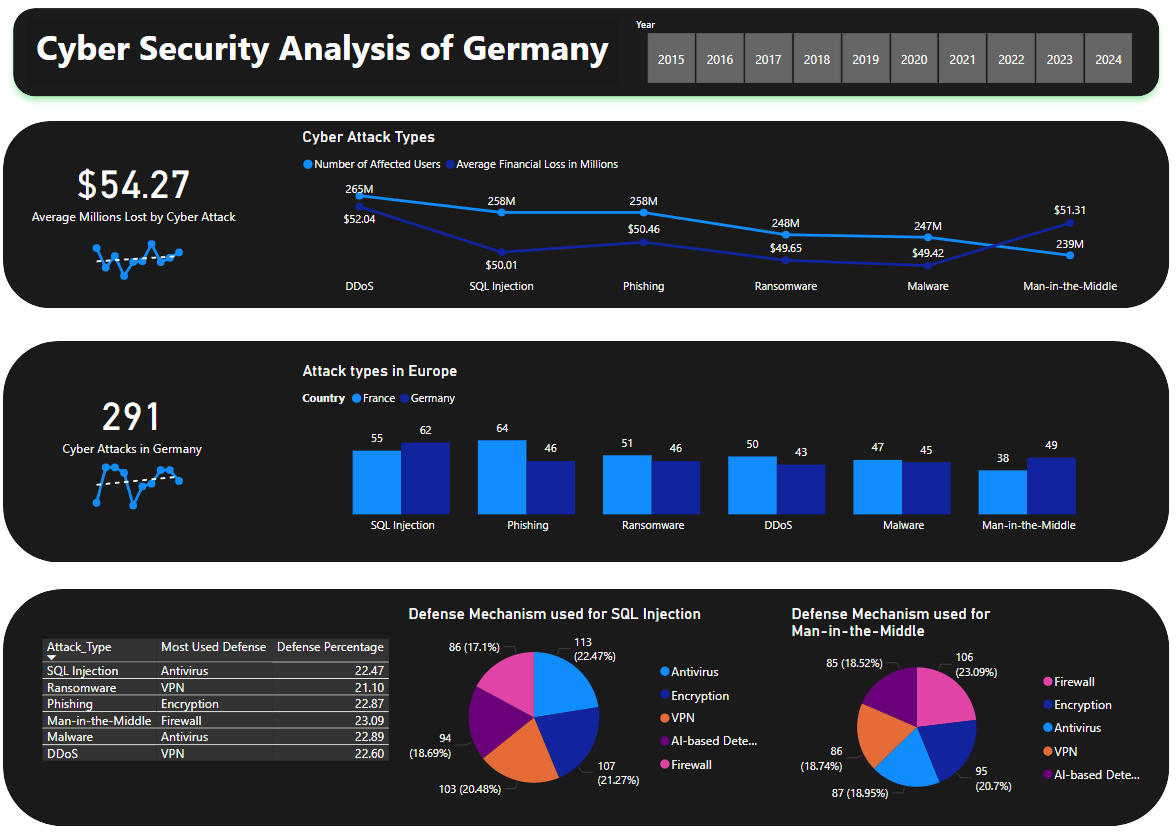

This screenshot's page, from the dashboard's own definition file:
{"tool":"powerbi","page":{"name":"Page 1","canvas":[1280,920],"ordinal":0},"visuals":[{"type":"shape","box":[4.6,0,1269.9,118.2],"z":1000},{"type":"shape","box":[4.6,373.1,1269.9,241],"z":1500},{"type":"shape","box":[4.6,643.1,1269.9,258.4],"z":2000},{"type":"shape","box":[4.6,134.4,1269.9,203.9],"z":3000},{"type":"textbox","box":[29,23.2,645.4,71.8],"z":4000},{"type":"card","fields":{"Values":["CountNonNull(Global_Cybersecurity_Threats_2015-2024.Attack_Type)"]},"box":[61.4,405.5,168,108.9],"z":5000},{"type":"lineChart","title":"Cyber Attack Types","fields":{"Category":["Global_Cybersecurity_Threats_2015-2024.Attack_Type"],"Y2":["Avg(Global_Cybersecurity_Threats_2015-2024.Financial_Loss_in_Million)"],"Y":["Sum(Global_Cybersecurity_Threats_2015-2024.Number_of_Affected_Users)"]},"box":[325.6,140.2,909.6,191.2],"z":6000},{"type":"card","fields":{"Values":["Avg(Global_Cybersecurity_Threats_2015-2024.Financial_Loss_in_Million)"]},"box":[29,152.9,234.1,108.9],"z":6001},{"type":"slicer","fields":{"Values":["Global_Cybersecurity_Threats_2015-2024.Year"]},"box":[680.2,17.4,577,82.3],"z":6002},{"type":"lineChart","fields":{"Y":["Avg(Global_Cybersecurity_Threats_2015-2024.Financial_Loss_in_Million)"],"Category":["Global_Cybersecurity_Threats_2015-2024.Year"]},"box":[41.7,248,179.6,69.5],"z":6003},{"type":"lineChart","fields":{"Category":["Global_Cybersecurity_Threats_2015-2024.Year"],"Y":["CountNonNull(Global_Cybersecurity_Threats_2015-2024.Attack_Type)"]},"box":[41.7,493.6,179.6,69.5],"z":6004},{"type":"clusteredColumnChart","title":"Attack types in Europe","fields":{"Category":["Global_Cybersecurity_Threats_2015-2024.Attack_Type"],"Y":["CountNonNull(Global_Cybersecurity_Threats_2015-2024.Attack_Type)"],"Series":["Global_Cybersecurity_Threats_2015-2024.Country"]},"box":[325.6,395.1,909.6,197],"z":6005},{"type":"pieChart","title":"Defense Mechanism used for SQL Injection","fields":{"Category":["Global_Cybersecurity_Threats_2015-2024.Defense_Mechanism_Used"],"Y":["CountNonNull(Global_Cybersecurity_Threats_2015-2024.Attack_Type)"]},"box":[441.5,659.3,400.9,225.9],"z":6006},{"type":"pieChart","title":"Defense Mechanism used for Man-in-the-Middle","fields":{"Category":["Global_Cybersecurity_Threats_2015-2024.Defense_Mechanism_Used"],"Y":["CountNonNull(Global_Cybersecurity_Threats_2015-2024.Attack_Type)"]},"box":[857.4,659.3,399.7,225.9],"z":6007},{"type":"tableEx","fields":{"Values":["Global_Cybersecurity_Threats_2015-2024.Attack_Type","Global_Cybersecurity_Threats_2015-2024.Most Used Defence","Global_Cybersecurity_Threats_2015-2024.Most Used Defense Percentage"]},"box":[41.7,692.9,391.6,159.9],"z":6008}]}

Visuals, with their boxes in screenshot pixels (x1, y1, x2, y2), scaled from the page's 1280x920 canvas onto the 1176x835 screenshot:
shape: select_region(4, 0, 1171, 107)
shape: select_region(4, 339, 1171, 557)
shape: select_region(4, 584, 1171, 818)
shape: select_region(4, 122, 1171, 307)
textbox: select_region(27, 21, 620, 86)
card - CountNonNull(Global_Cybersecurity_Threats_2015-2024.Attack_Type): select_region(56, 368, 211, 467)
"Cyber Attack Types" lineChart: select_region(299, 127, 1135, 301)
card - Avg(Global_Cybersecurity_Threats_2015-2024.Financial_Loss_in_Million): select_region(27, 139, 242, 238)
slicer - Global_Cybersecurity_Threats_2015-2024.Year: select_region(625, 16, 1155, 90)
lineChart - Avg(Global_Cybersecurity_Threats_2015-2024.Financial_Loss_in_Million) x Global_Cybersecurity_Threats_2015-2024.Year: select_region(38, 225, 203, 288)
lineChart - Global_Cybersecurity_Threats_2015-2024.Year x CountNonNull(Global_Cybersecurity_Threats_2015-2024.Attack_Type): select_region(38, 448, 203, 511)
"Attack types in Europe" clusteredColumnChart: select_region(299, 359, 1135, 537)
"Defense Mechanism used for SQL Injection" pieChart: select_region(406, 598, 774, 803)
"Defense Mechanism used for Man-in-the-Middle" pieChart: select_region(788, 598, 1155, 803)
tableEx - Global_Cybersecurity_Threats_2015-2024.Attack_Type x Global_Cybersecurity_Threats_2015-2024.Most Used Defence: select_region(38, 629, 398, 774)
